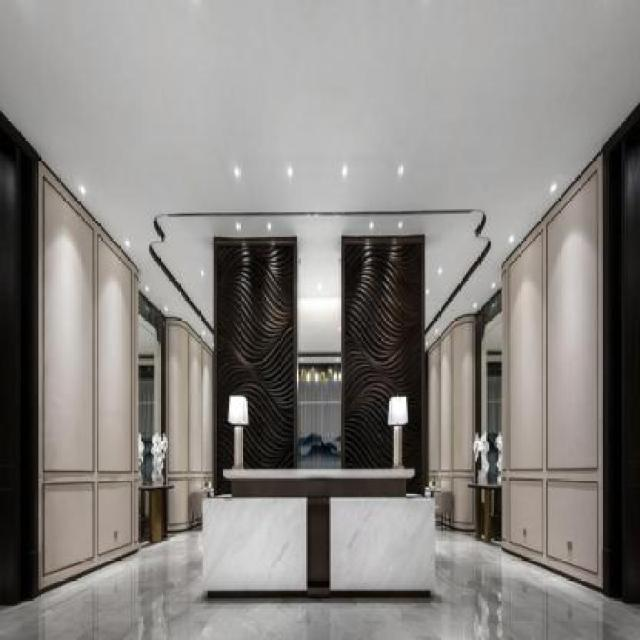frontdesk: (197, 452, 438, 611)
